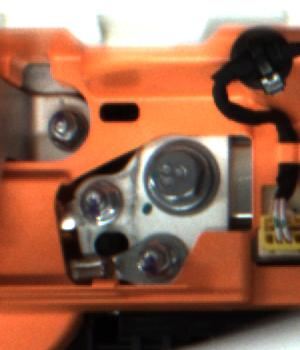nut_b: (142, 136, 228, 218)
screw_s: (45, 113, 95, 160), (139, 239, 179, 278), (84, 185, 118, 218)
